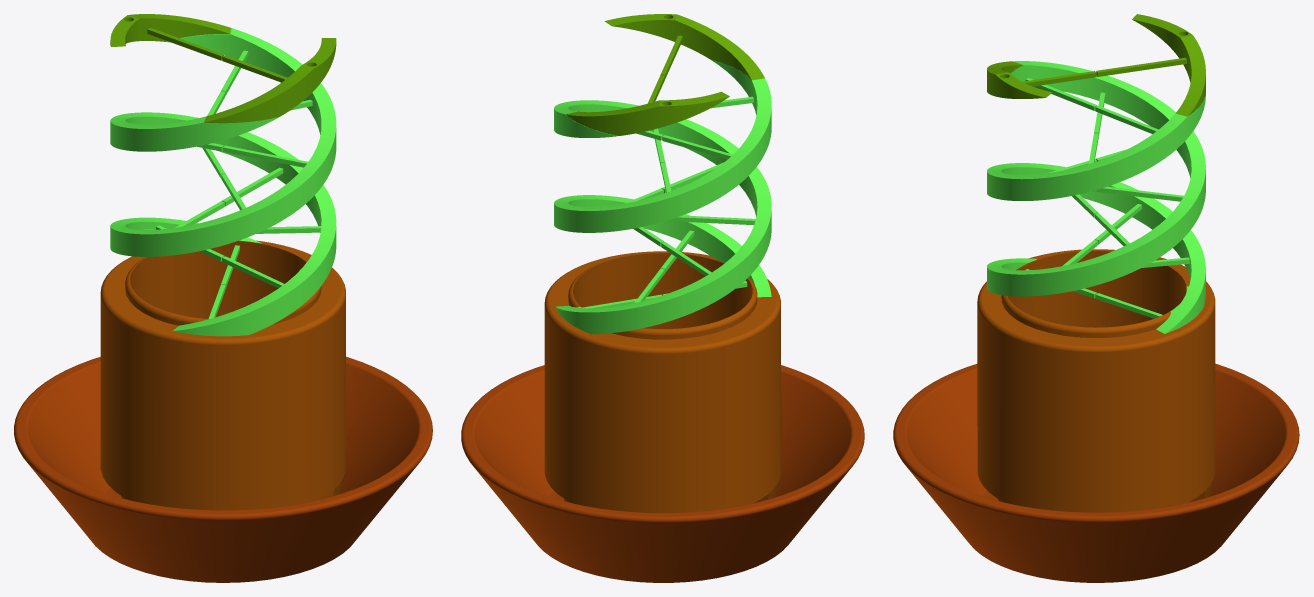
File: plant_pot.glb
3 views of the same model, side by side, from view 1: azimuth 30°, elevation 25°; view 2: azimuth 150°, elevation 25°; view 3: azimuth 270°, elevation 25° (orthographic). The views are drawn at different scales.
Parts seen in each view (by area): view 1: Plant pot design main part-3, Plant pot design plate-2, Plant pot design building block-3; view 2: Plant pot design main part-3, Plant pot design plate-2, Plant pot design building block-3; view 3: Plant pot design main part-3, Plant pot design plate-2, Plant pot design building block-3.
Part boxes in pixels (x1,y1,x2,y2): Plant pot design main part-3: [100, 28, 346, 510]; Plant pot design plate-2: [14, 356, 432, 582]; Plant pot design building block-3: [110, 14, 336, 123]; Plant pot design main part-3: [544, 59, 781, 512]; Plant pot design plate-2: [461, 365, 864, 582]; Plant pot design building block-3: [565, 14, 764, 135]; Plant pot design main part-3: [977, 61, 1215, 512]; Plant pot design plate-2: [893, 363, 1299, 582]; Plant pot design building block-3: [987, 14, 1205, 116].
Bounding box in the file's own units: 0.4265 × 0.5445 × 0.4264.
